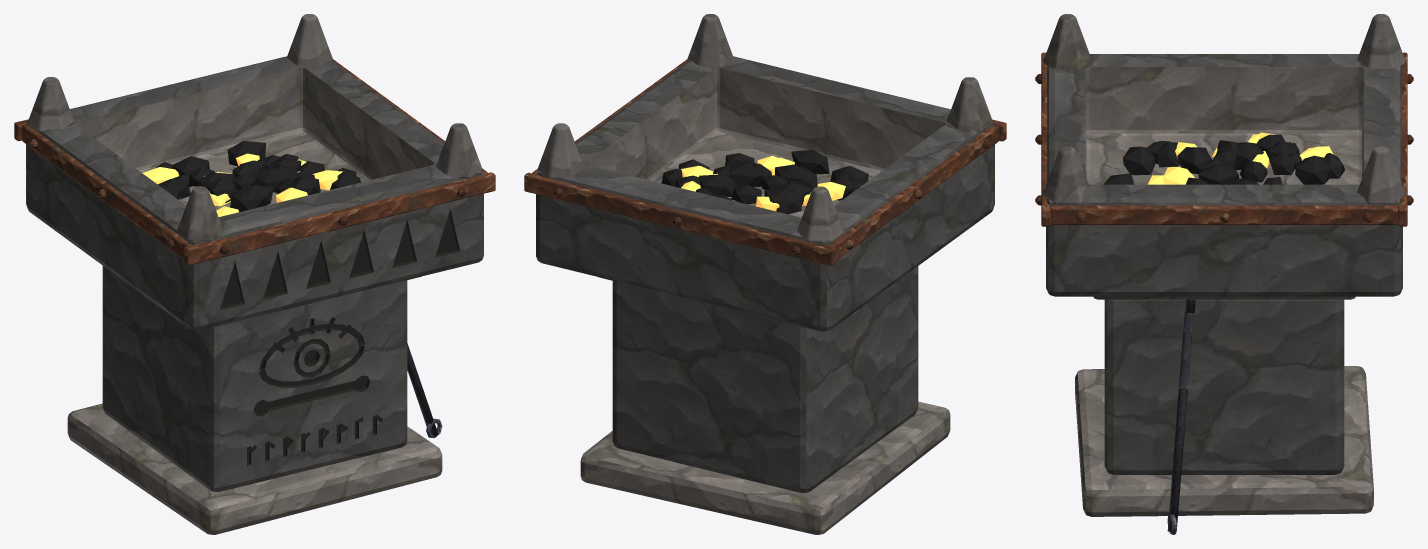
Rendered from vo_vigil_brazier.glb.
3 renders of one model, left to right at view 1: azimuth 30°, elevation 25°; view 2: azimuth 150°, elevation 25°; view 3: azimuth 270°, elevation 25°, orthographic. The views are drawn at different scales.
Visible parts, largest first — view 1: model; view 2: model; view 3: model.
Boxes of the visible parts, <box> form: model: <box>14,14,495,534</box>; model: <box>524,14,1006,534</box>; model: <box>1035,14,1413,534</box>.
Size of the model in its own units: 0.8895 by 0.95 by 0.8688.
Materials: 10 (7 with a texture image).
